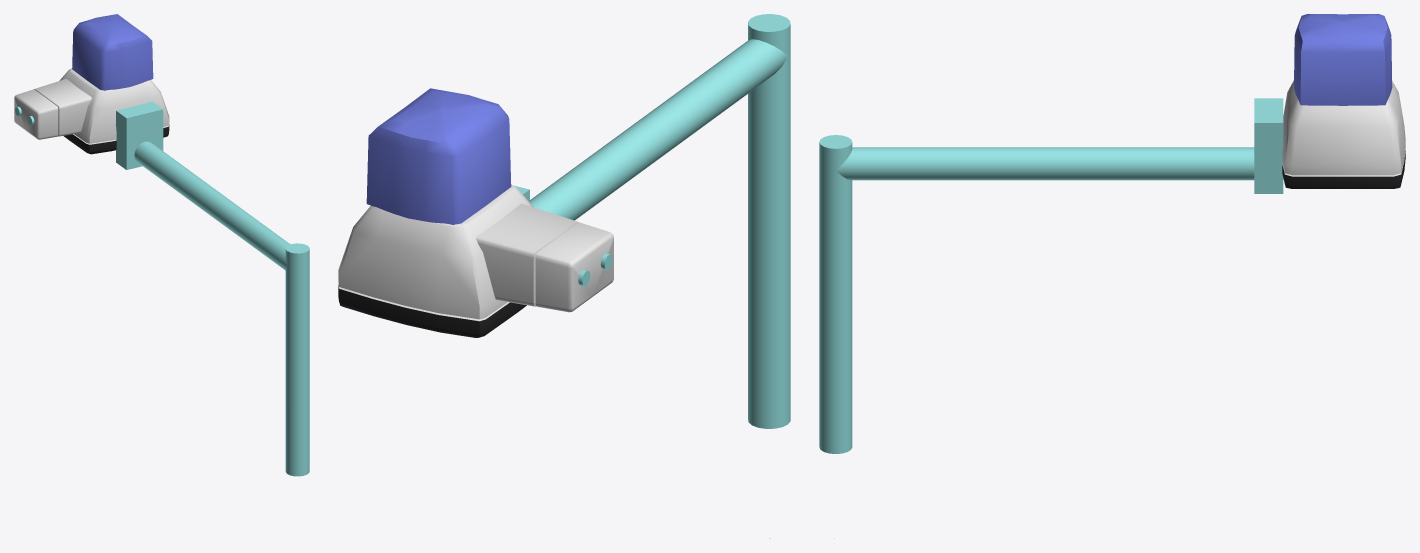
The model's file is occluder.fbx.
3 views of the same model, side by side, from view 1: azimuth 30°, elevation 25°; view 2: azimuth 150°, elevation 25°; view 3: azimuth 270°, elevation 25° (orthographic). The views are drawn at different scales.
Visible parts, largest first — view 1: OccluderStand, Occluder; view 2: Occluder, OccluderStand; view 3: OccluderStand, Occluder.
Boxes of the visible parts, x1=… form: OccluderStand: x1=116, y1=101, x2=309, y2=476; Occluder: x1=14, y1=14, x2=169, y2=154; Occluder: x1=338, y1=88, x2=613, y2=337; OccluderStand: x1=513, y1=14, x2=790, y2=428; OccluderStand: x1=819, y1=98, x2=1283, y2=453; Occluder: x1=1282, y1=14, x2=1405, y2=188.
Size of the model in its own units: 17.13 by 48.62 by 50.01.
